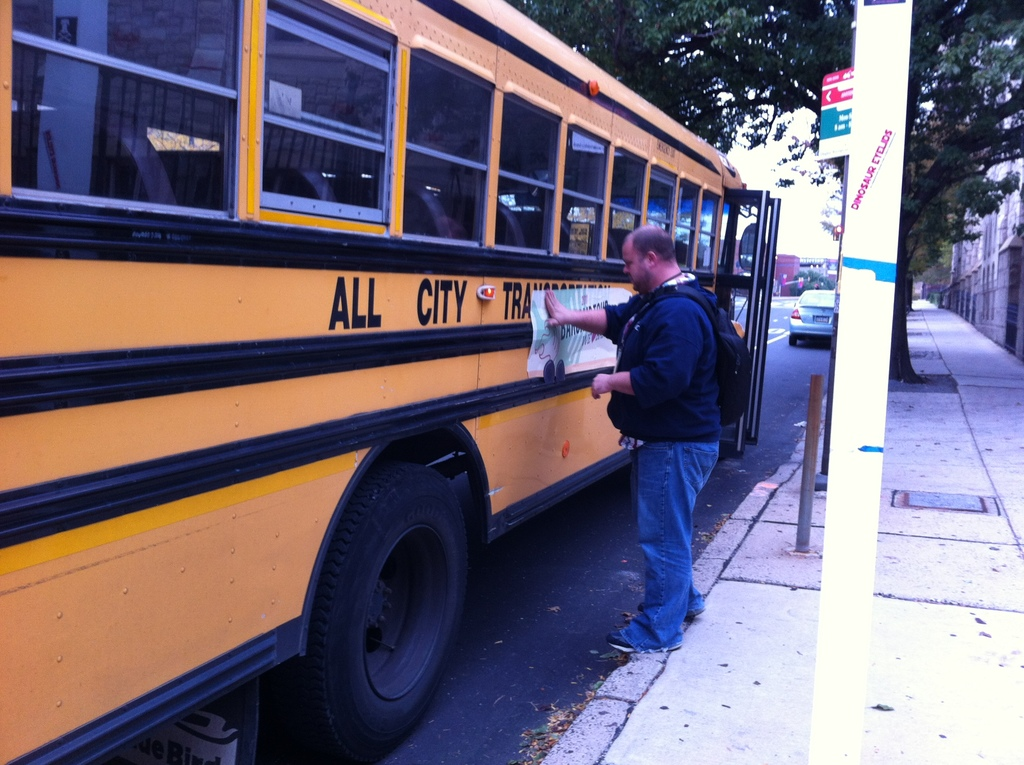Bus: (0, 0, 779, 764)
